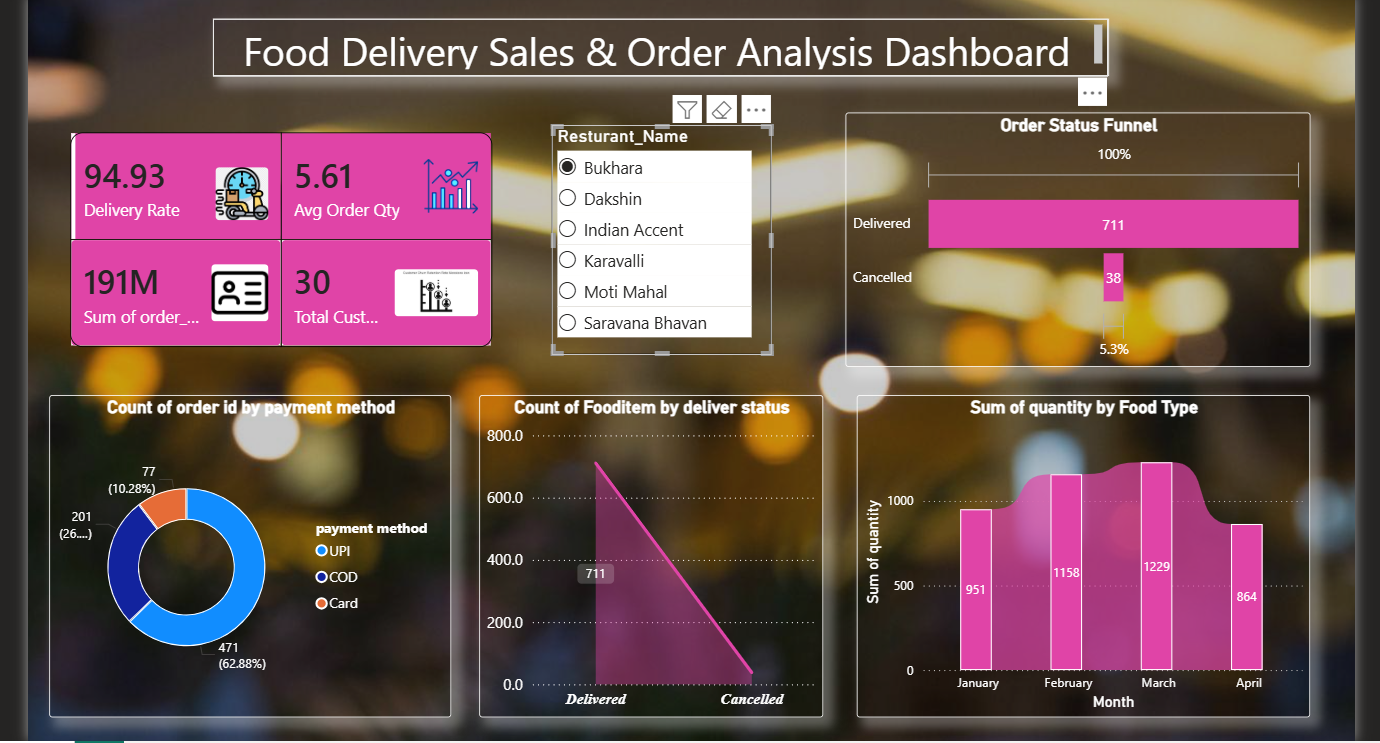

The page's visual inventory and layout, read from the dashboard file:
{"tool":"powerbi","page":{"name":"Page 1","canvas":[1280,720],"ordinal":0},"visuals":[{"type":"ribbonChart","title":"Sum of quantity by Food Type","fields":{"Category":["Orders Data.orderDate.Variation.Date Hierarchy.Month"],"Y":["Sum(Orders Data.quantity)"]},"box":[800,385.6,437.7,311.5],"z":0},{"type":"donutChart","title":"Count of order id by payment method","fields":{"Y":["CountNonNull(Orders Data.order_id)"],"Category":["Orders Data.payment_method"]},"box":[20.6,385.6,388.3,311.5],"z":1000},{"type":"stackedAreaChart","title":"Count of Fooditem by deliver status","fields":{"Category":["Orders Data.deliver_status"],"Y":["CountNonNull(Orders Data.Fooditem)"]},"box":[435,385.6,332.1,311.5],"z":2000},{"type":"textbox","box":[178.4,23.3,864.5,54.9],"z":3000},{"type":"funnel","title":"Order Status Funnel","fields":{"Category":["Orders Data.deliver_status"],"Y":["CountNonNull(Orders Data.order_id)"]},"box":[788.8,113.8,449,245.7],"z":4000},{"type":"cardVisual","fields":{"Data":["Customer Details.Delivery Rate","Customer Details.Avg Order Qty","Sum(Orders Data.order_id)","Customer Details.Total Customers"]},"box":[21.2,113.8,446,245.7],"z":5000},{"type":"listSlicer","fields":{"Values":["Resturant_Details.Resturant_Name"]},"box":[505.1,125.9,212.4,221.5],"z":5001}]}

Visuals, with their boxes in screenshot pixels (x1, y1, x2, y2):
"Sum of quantity by Food Type" ribbonChart: box=[876, 394, 1356, 735]
"Count of order id by payment method" donutChart: box=[23, 394, 448, 735]
"Count of Fooditem by deliver status" stackedAreaChart: box=[476, 394, 840, 735]
textbox: box=[195, 0, 1142, 57]
"Order Status Funnel" funnel: box=[864, 96, 1356, 365]
cardVisual - Customer Details.Delivery Rate x Customer Details.Avg Order Qty: box=[23, 96, 512, 365]
listSlicer - Resturant_Details.Resturant_Name: box=[553, 109, 786, 352]
